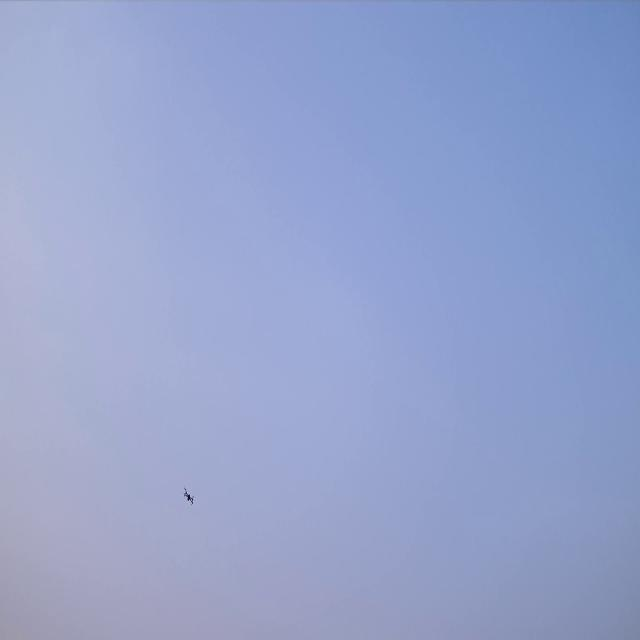UAV: (183, 486, 194, 505)
